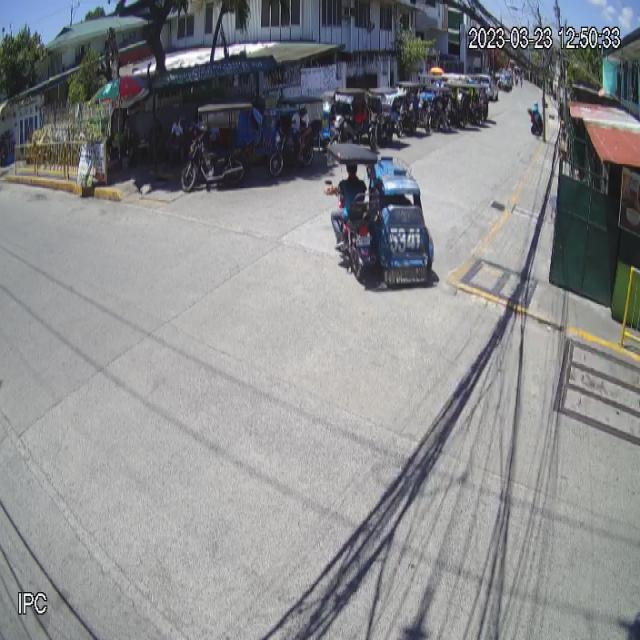Tricycle: (326, 142, 436, 288)
